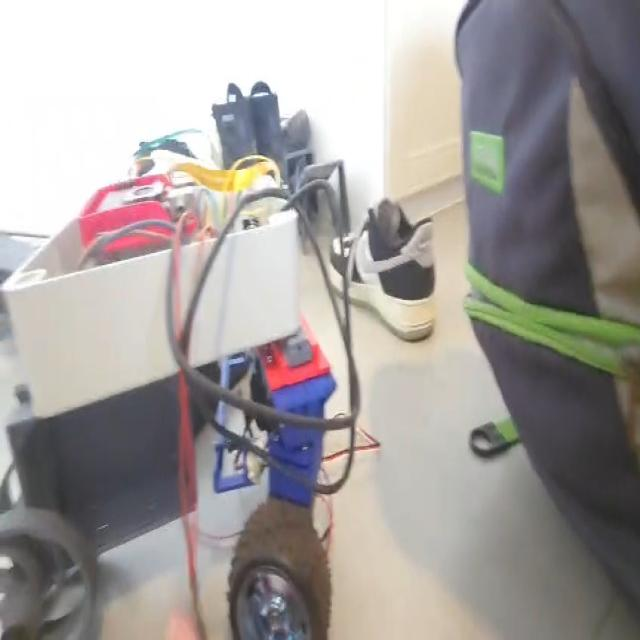Robot: (0, 135, 340, 640)
